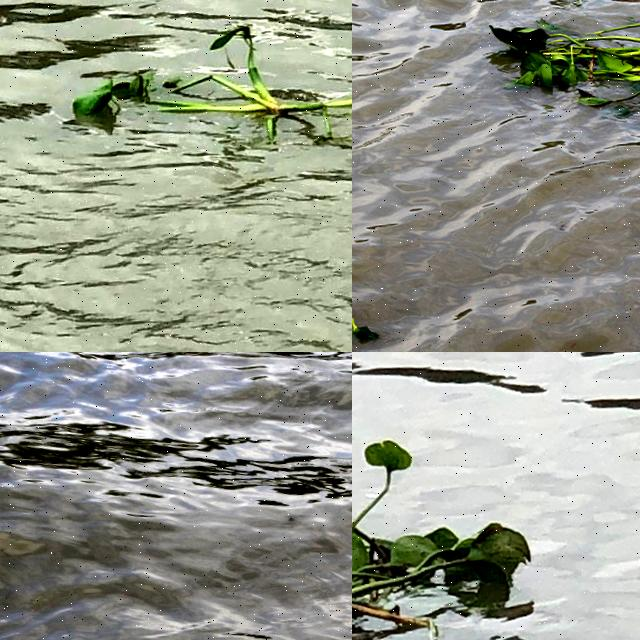water-hyacinth: (51, 1, 353, 169), (353, 433, 535, 640), (486, 8, 640, 109)
